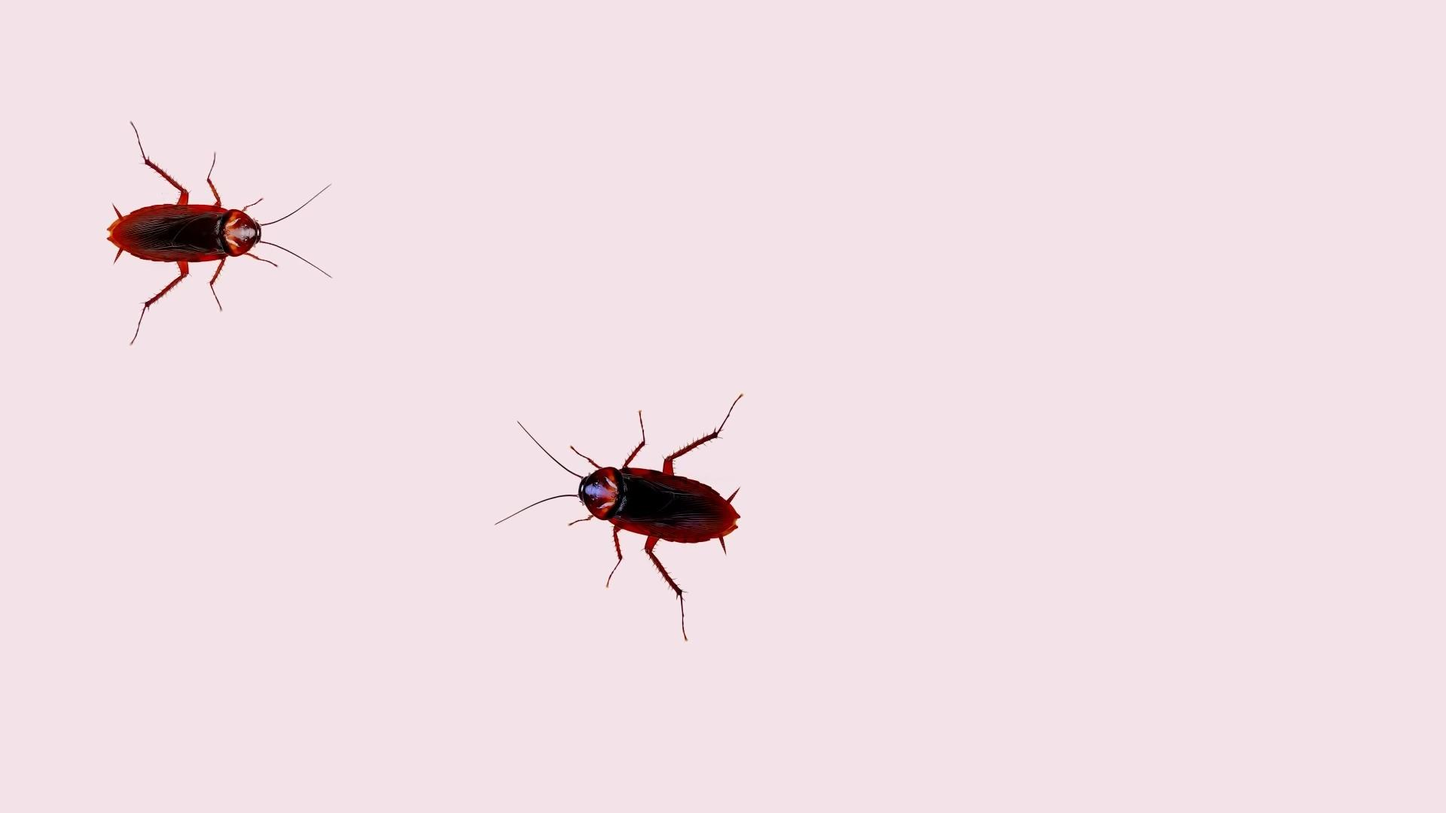cockroach: (473, 380, 755, 639), (91, 109, 335, 358)
